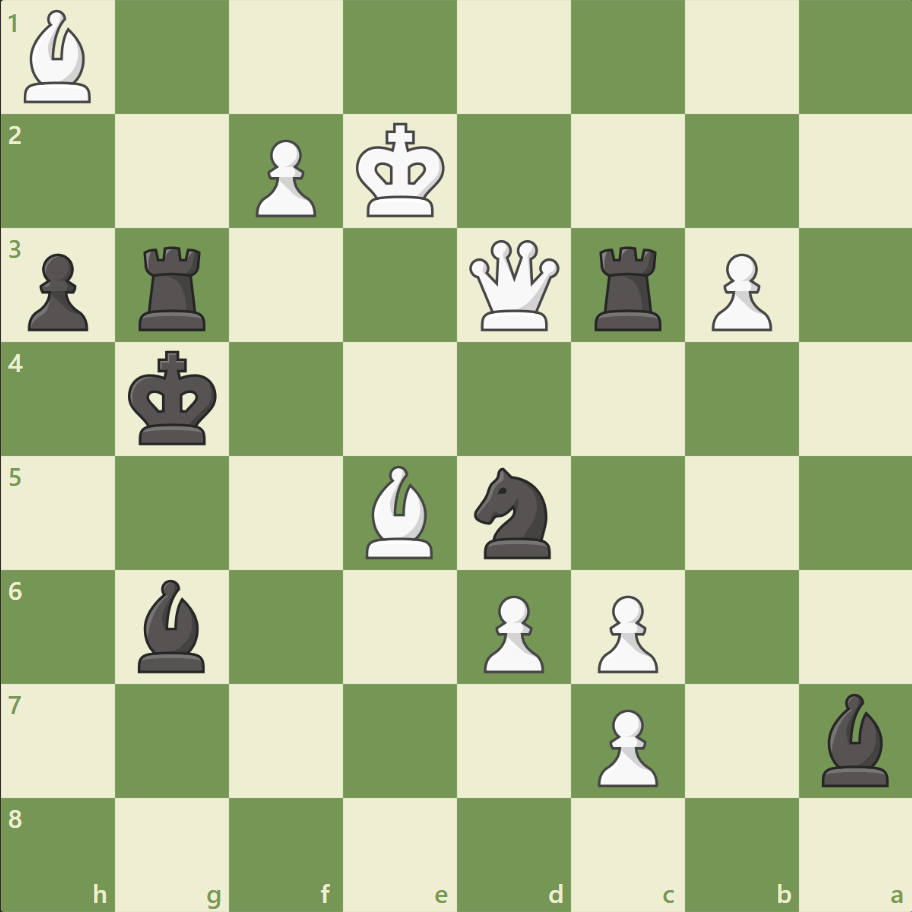B: (358, 460, 442, 563), (17, 6, 101, 109)
K: (351, 117, 451, 225)
P: (474, 586, 549, 677), (701, 246, 776, 337), (247, 132, 322, 223), (588, 700, 662, 791), (588, 586, 662, 677)
Q: (464, 236, 563, 335)
b: (812, 687, 896, 790), (131, 574, 215, 676)
k: (124, 344, 224, 452)
n: (465, 461, 562, 564)
p: (20, 246, 95, 337)
r: (587, 239, 670, 336), (133, 239, 215, 336)
